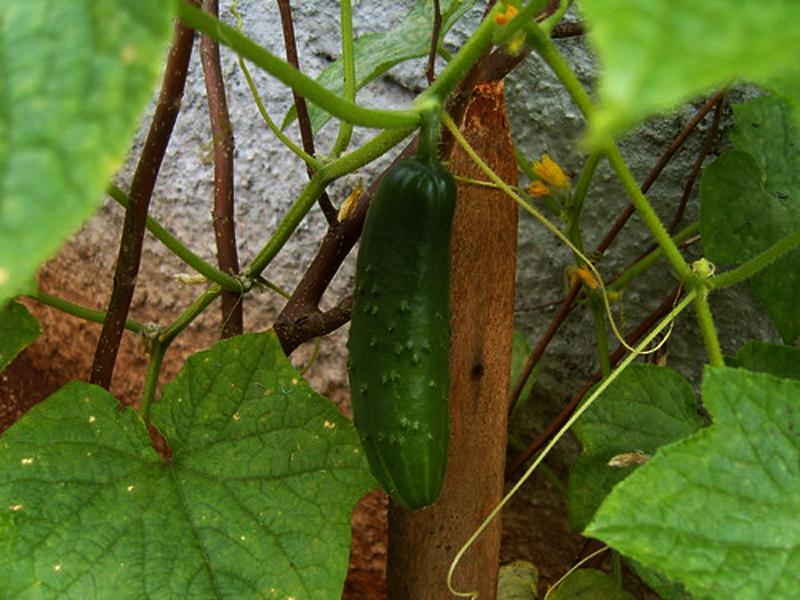Cucumber: (347, 155, 458, 510)
